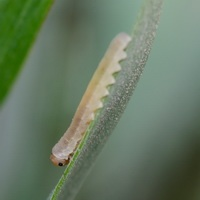insect: (50, 33, 130, 165)
